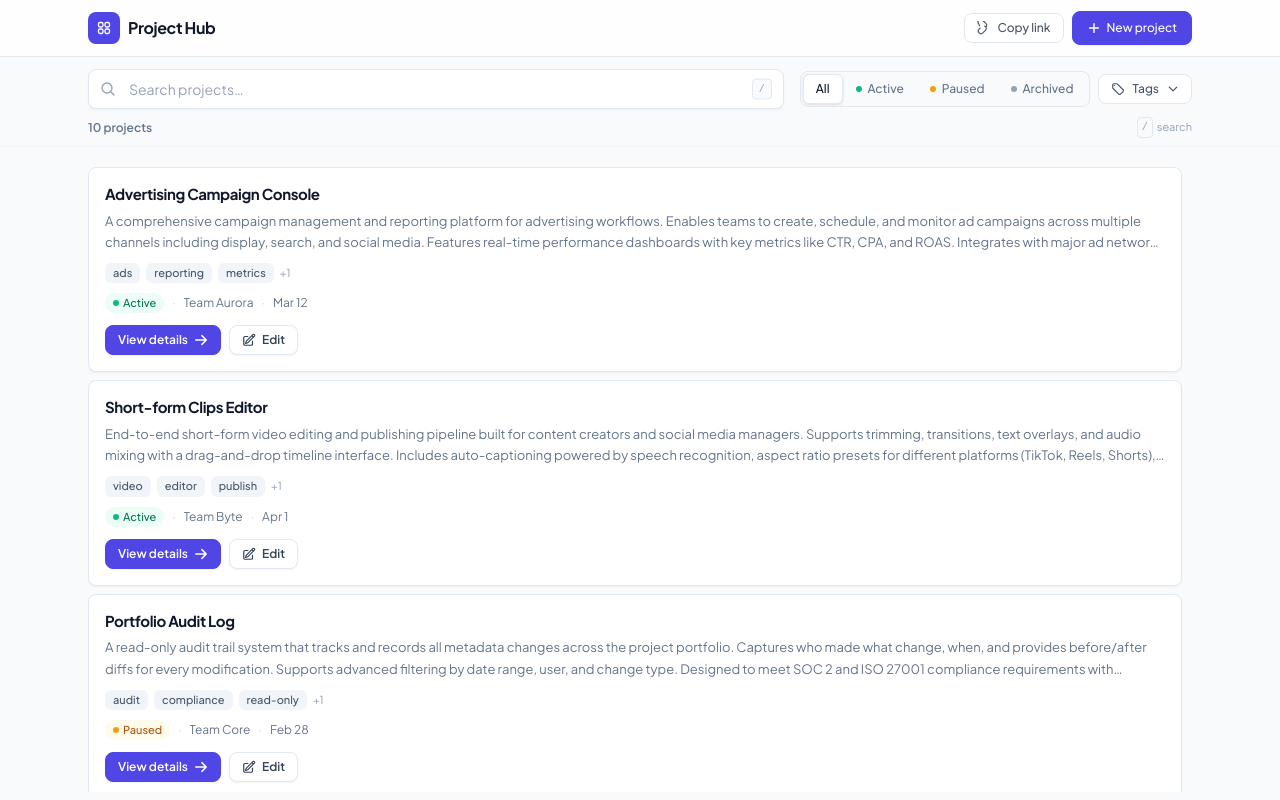
Empty state › shows empty message when no projects match the search
// Search for something that doesn't exist
Type "zzz_nonexistent_query" into the field labelled "Search projects…" at (436, 89), box [88, 69, 784, 109]
Wait 400 ms
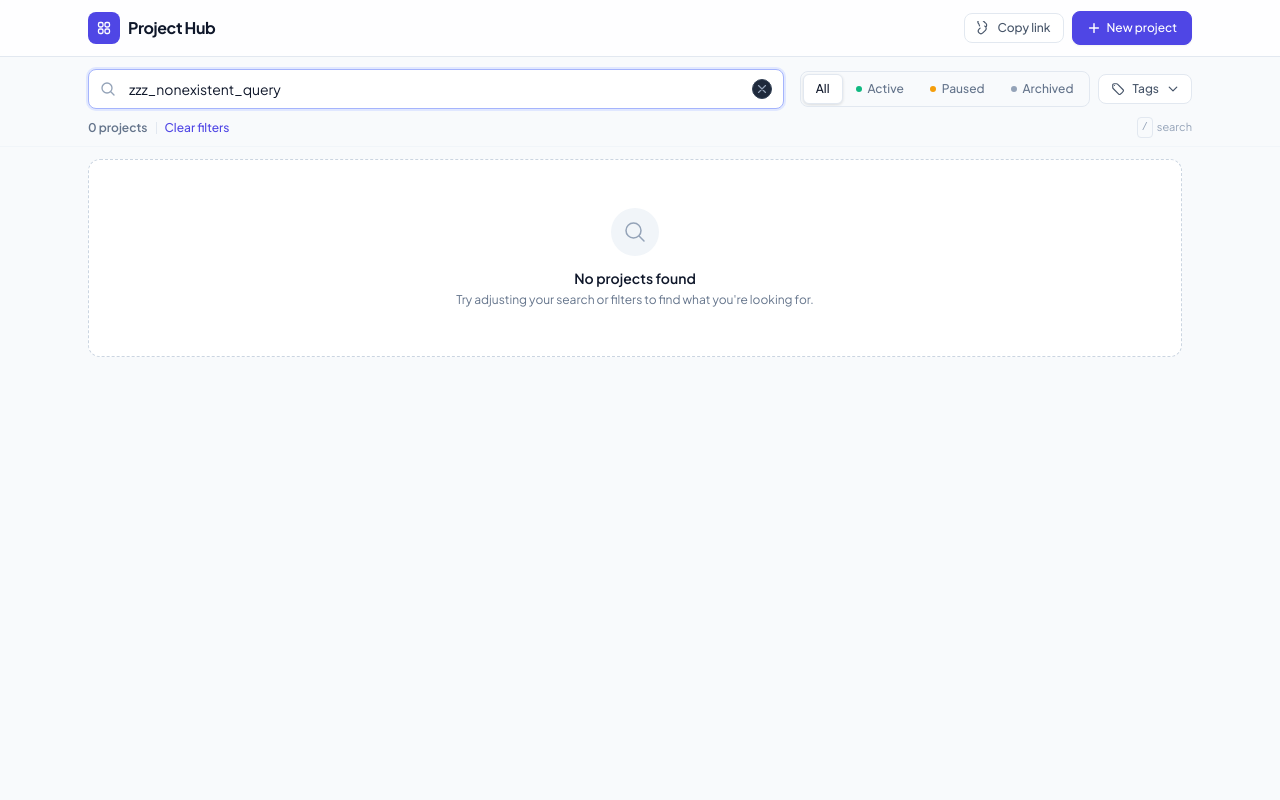
expect the text "No projects found" is shown: met, box [574, 269, 696, 287]
expect the text "Try adjusting your search" is shown: met, box [456, 292, 814, 307]
